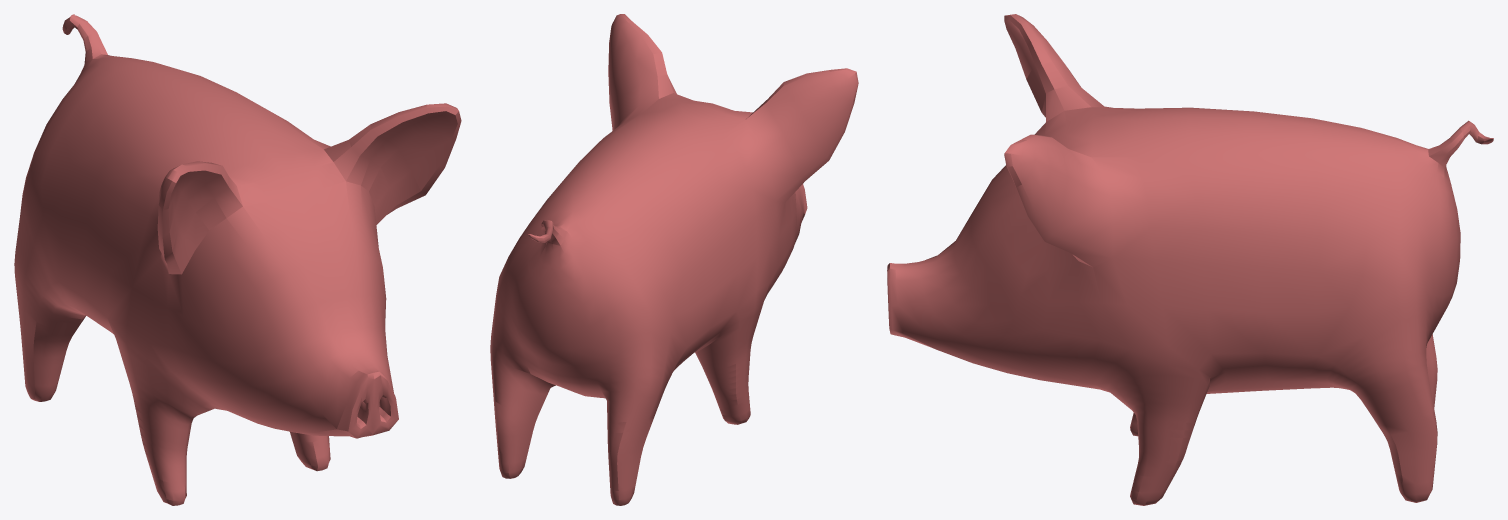
Rendered from cerdito basico.fbx.
3 renders of one model, left to right at view 1: azimuth 30°, elevation 25°; view 2: azimuth 150°, elevation 25°; view 3: azimuth 270°, elevation 25°, orthographic. The views are drawn at different scales.
Parts seen in each view (by area): view 1: Cerdito; view 2: Cerdito; view 3: Cerdito.
Part boxes in pixels (<box>): Cerdito: <box>14,14,461,505</box>; Cerdito: <box>490,14,858,505</box>; Cerdito: <box>887,14,1493,505</box>.
Size of the model in its own units: 73.85 by 93.87 by 132.
